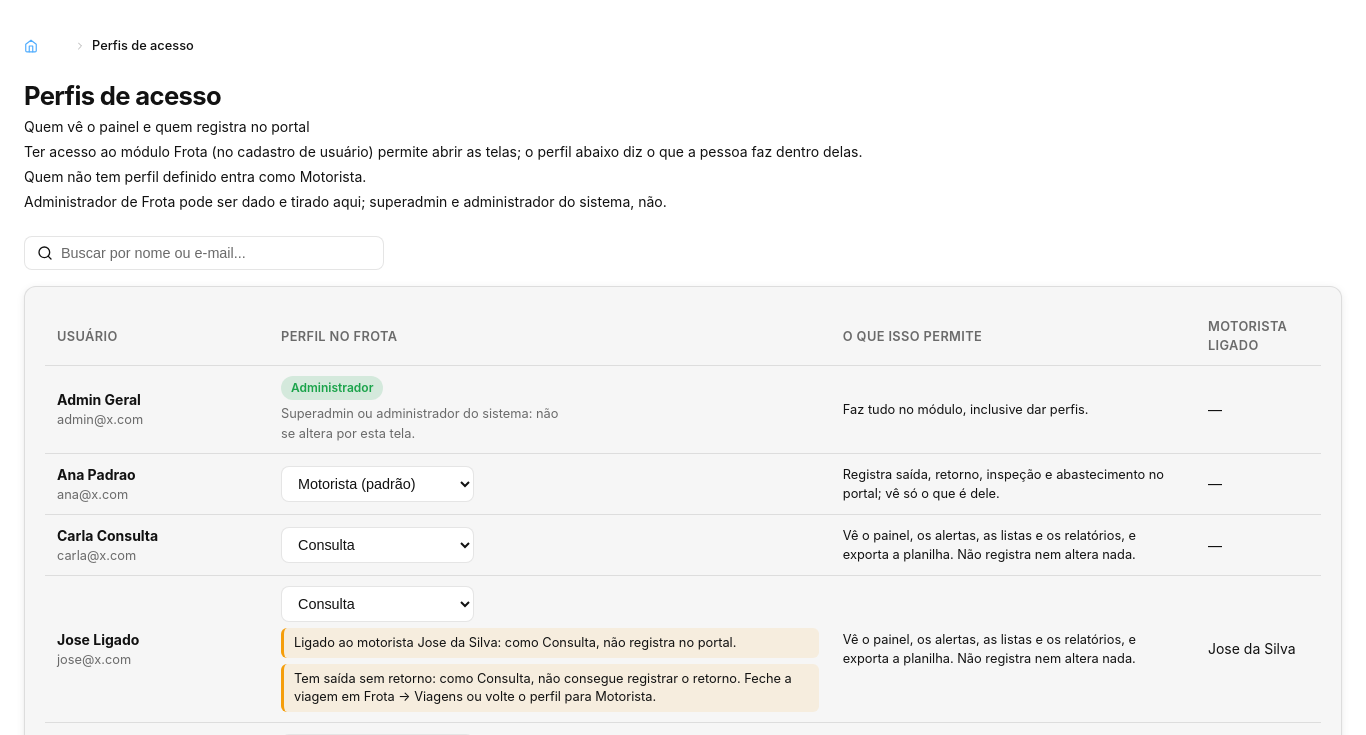
Scenario: Perfis de acesso — gravar › Consulta: PUT com CONSULTA, toast "Perfil definido: Consulta" e a linha passa a mostrar o novo perfil
Select "Consulta" in the dropdown named "Perfil no Frota de Ana Padrao": (378, 484) [281,466,474,502]
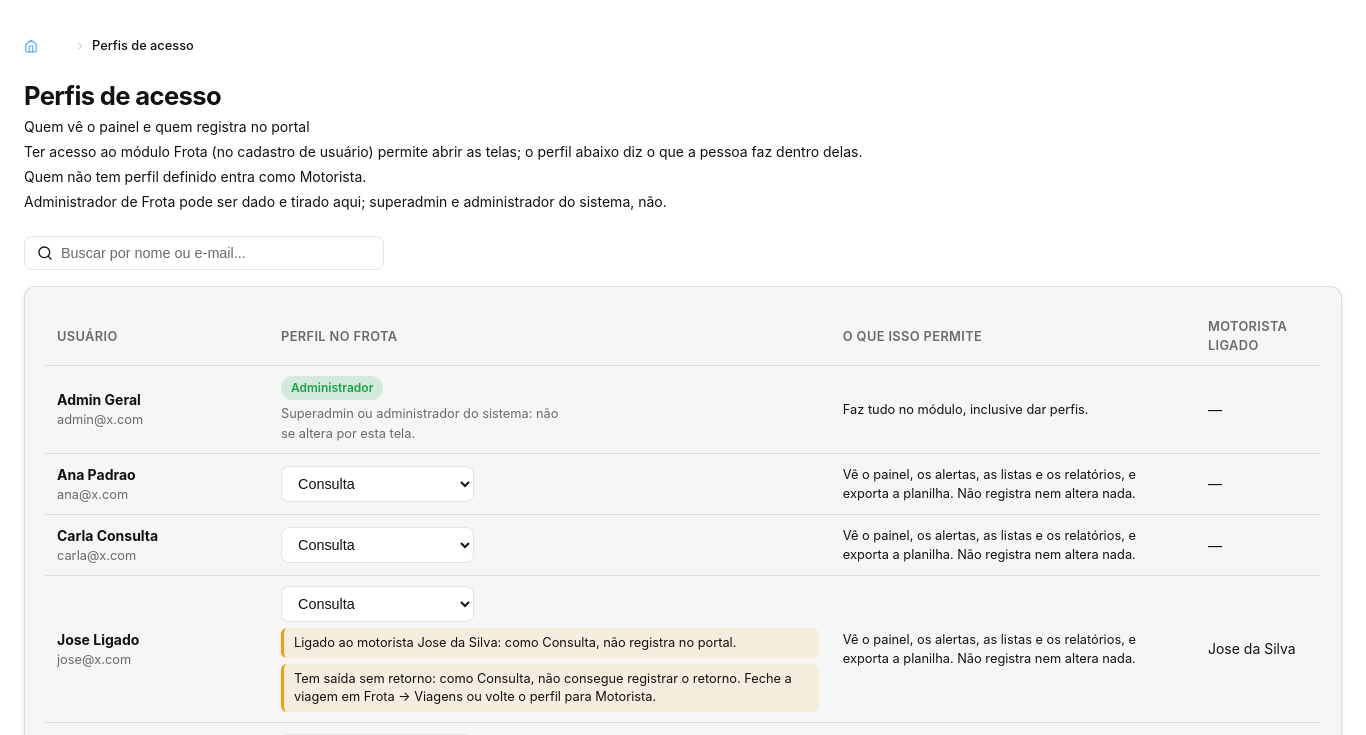
Expected: the row that starts with "Ana Padrao" shows "Não registra nem altera nada.", [843,467,1136,501]
